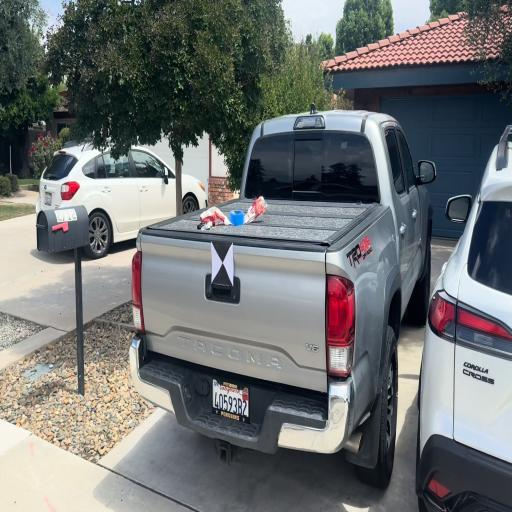target: (212, 241, 234, 285)
